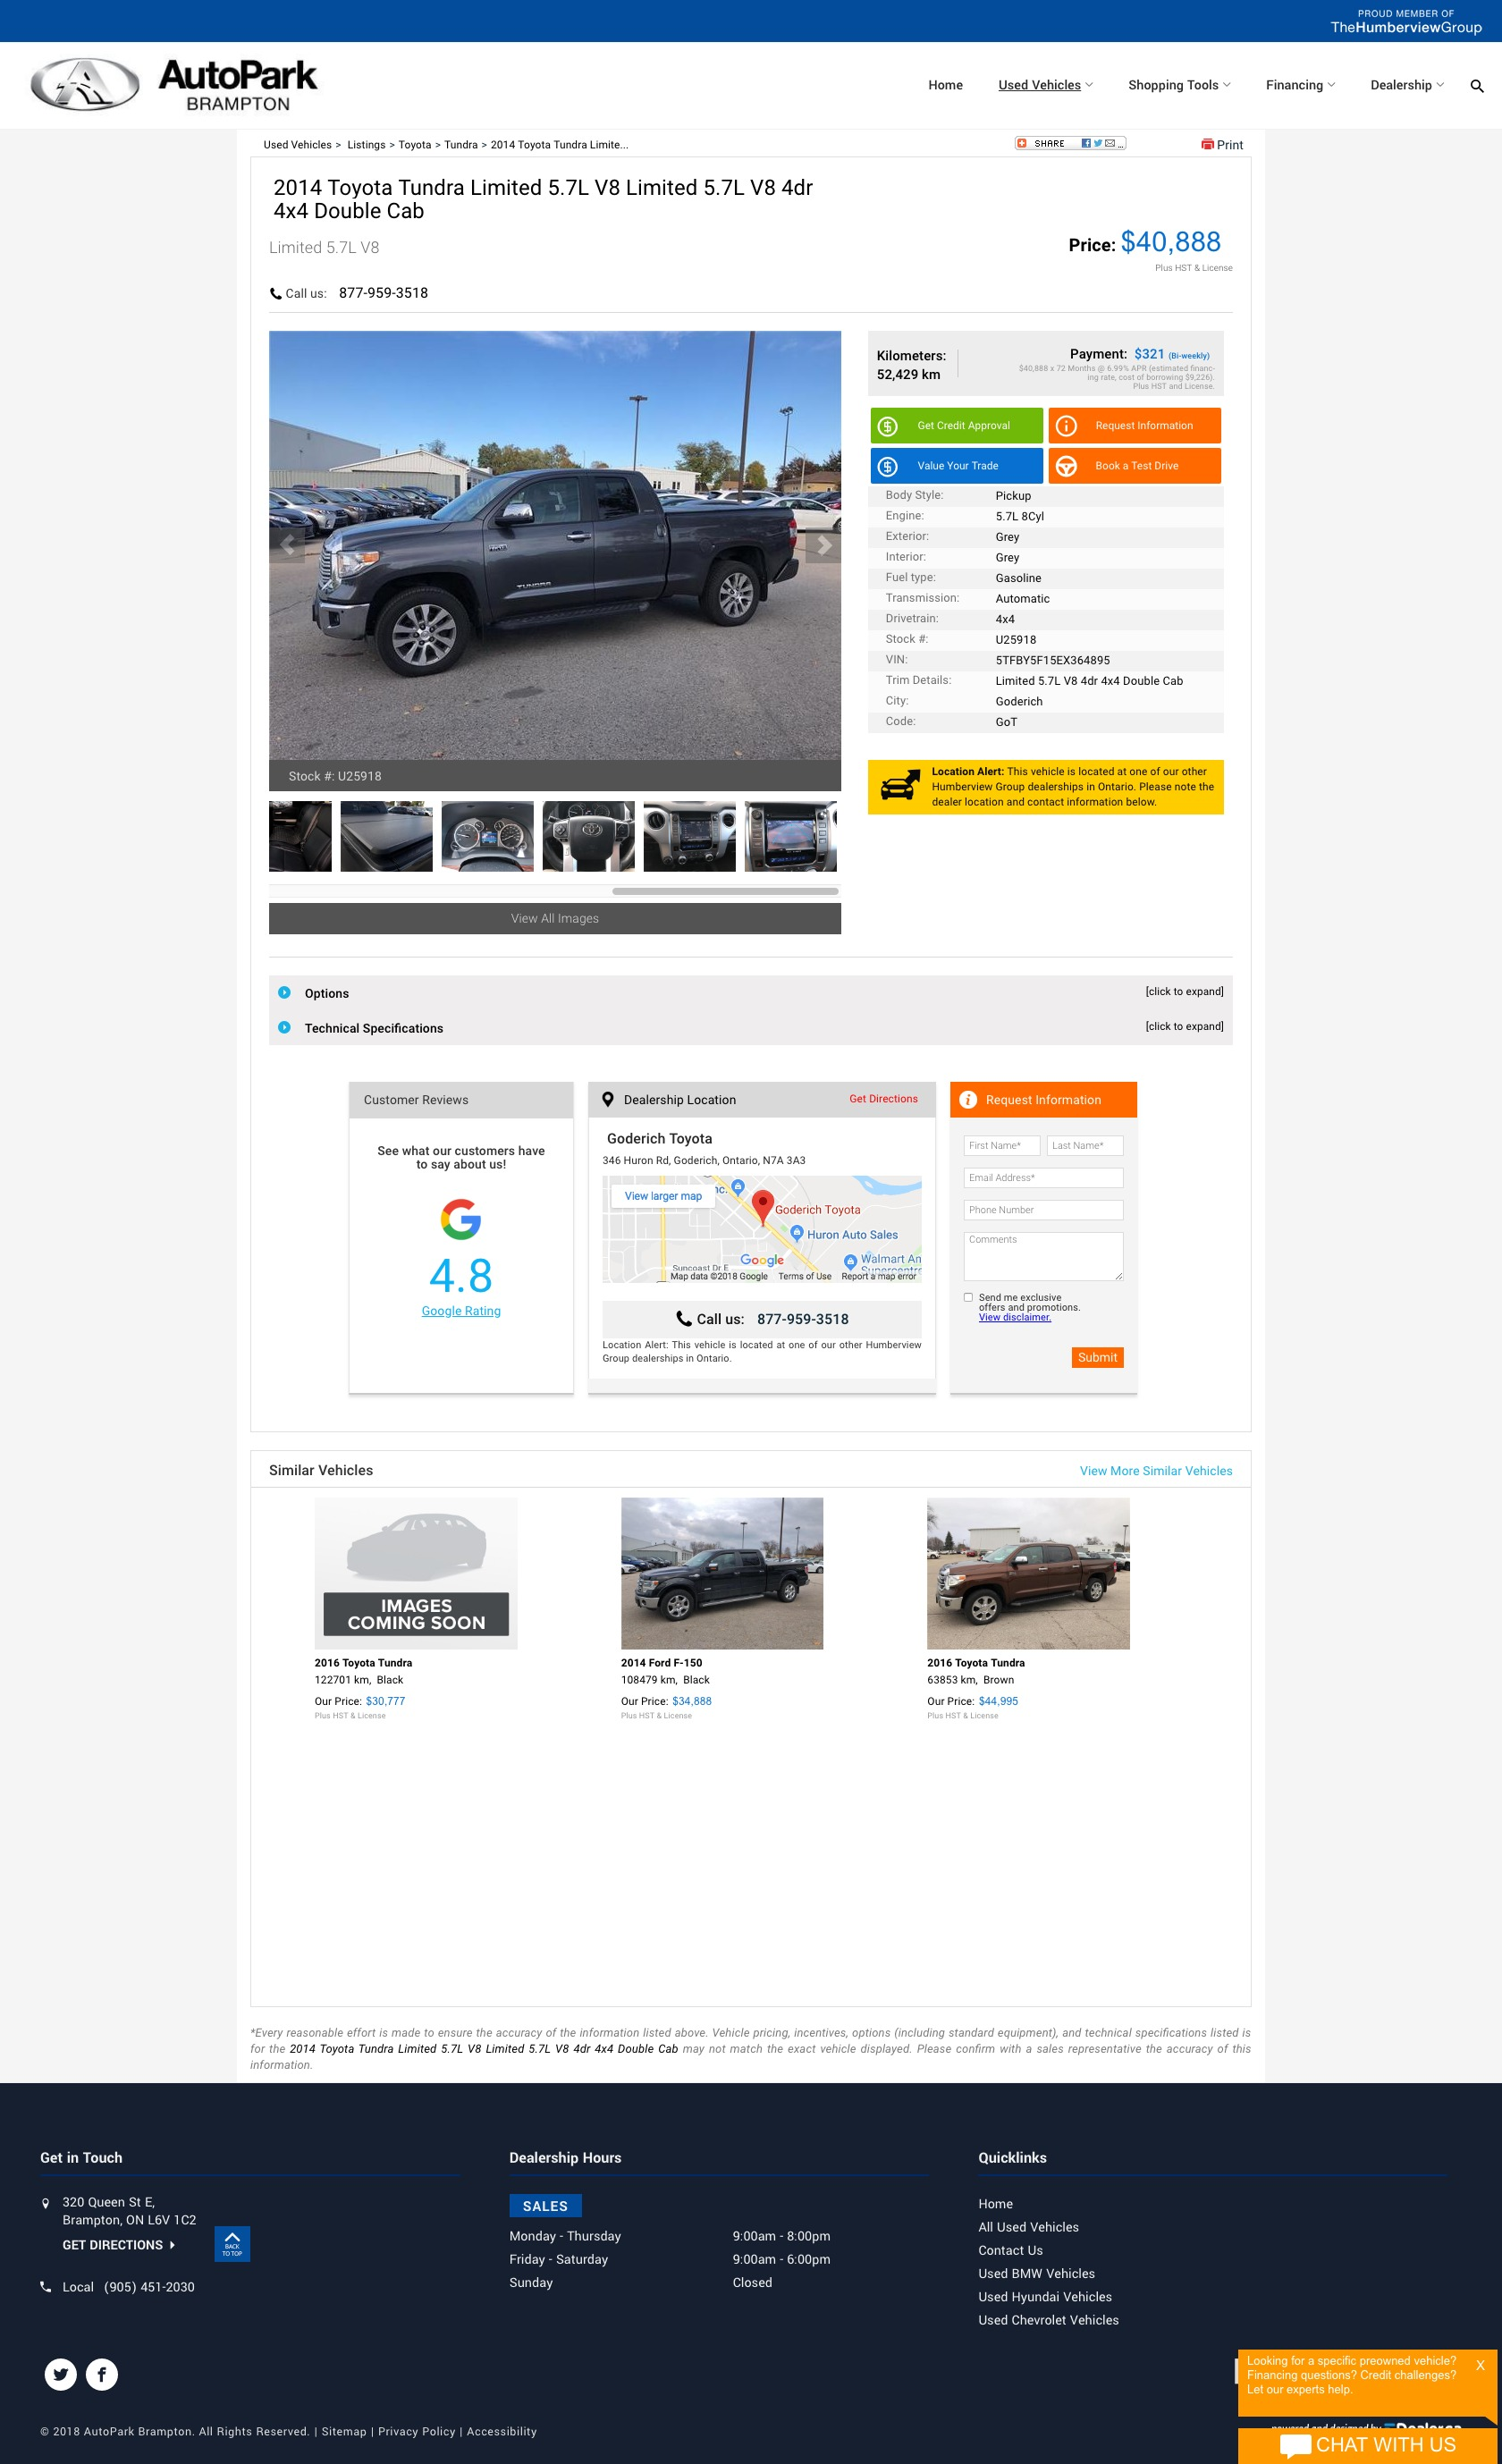car: (805, 526, 845, 565)
